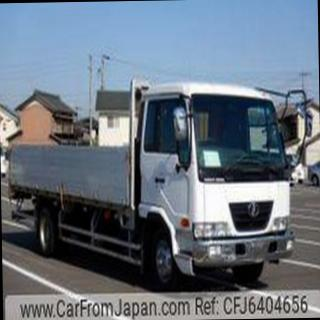truck: (6, 70, 297, 286)
